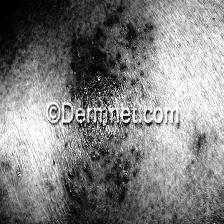Non-Cancerous Skin Condition: (61, 5, 158, 209), (187, 116, 209, 158), (0, 56, 6, 106)
